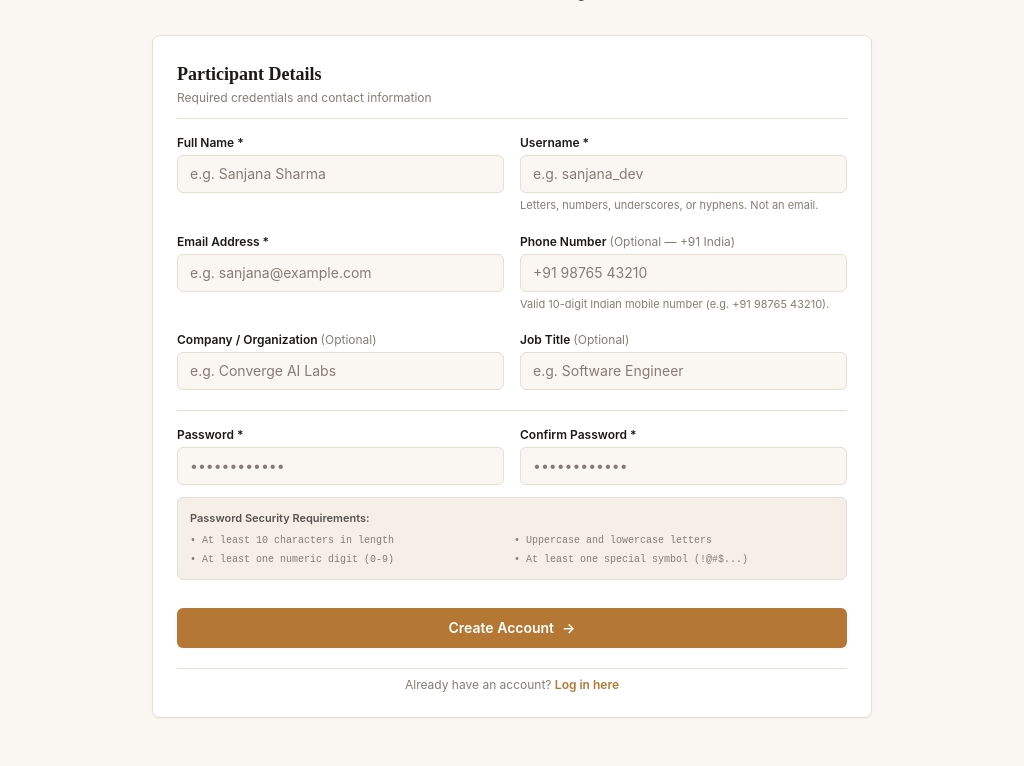
Scenario: Register Component › validates client-side required fields and displays validation messages
(page scrolled)
Step 1. Click the button "Create Account →" → (512,628), box top-left (177, 608), bottom-right (847, 648)
(page scrolled)
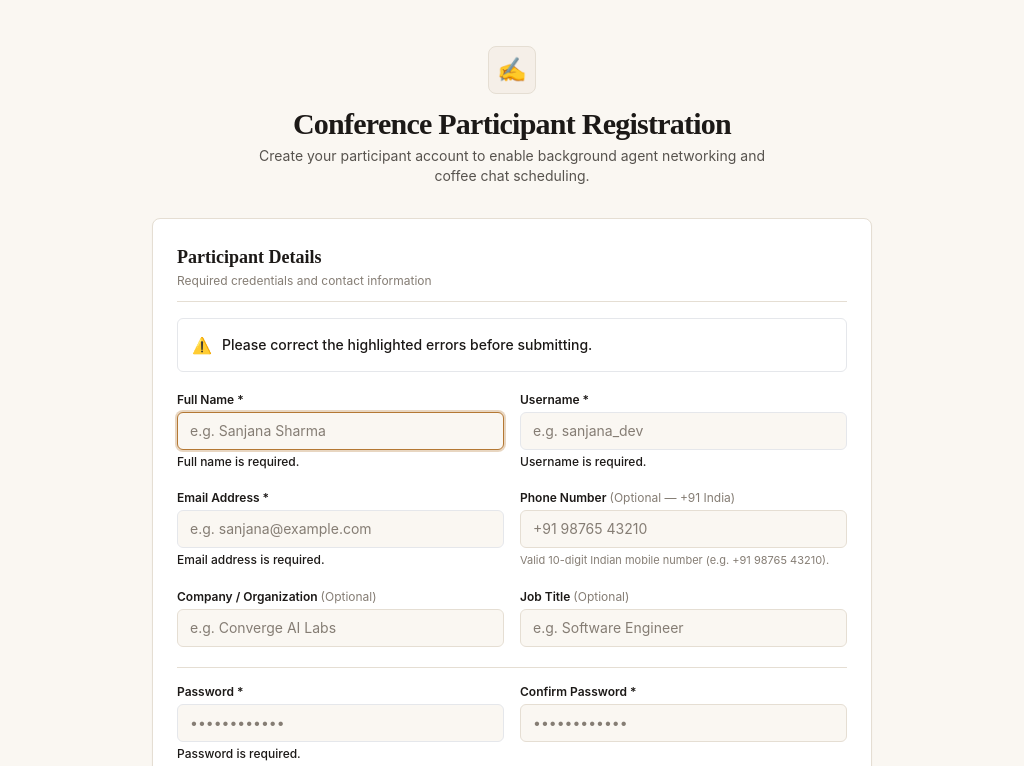
Expected: the text "Full name is required." is shown, top-left (177, 454), bottom-right (299, 469)
Expected: the text "Username is required." is shown, top-left (520, 454), bottom-right (646, 469)
Expected: the text "Email address is required." is shown, top-left (177, 552), bottom-right (324, 567)
